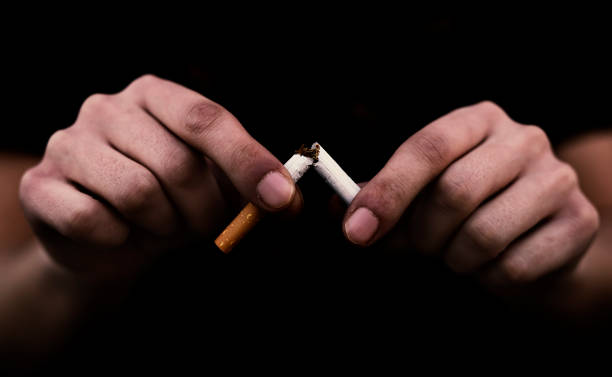cigarette: (215, 144, 316, 253), (309, 141, 361, 204)
